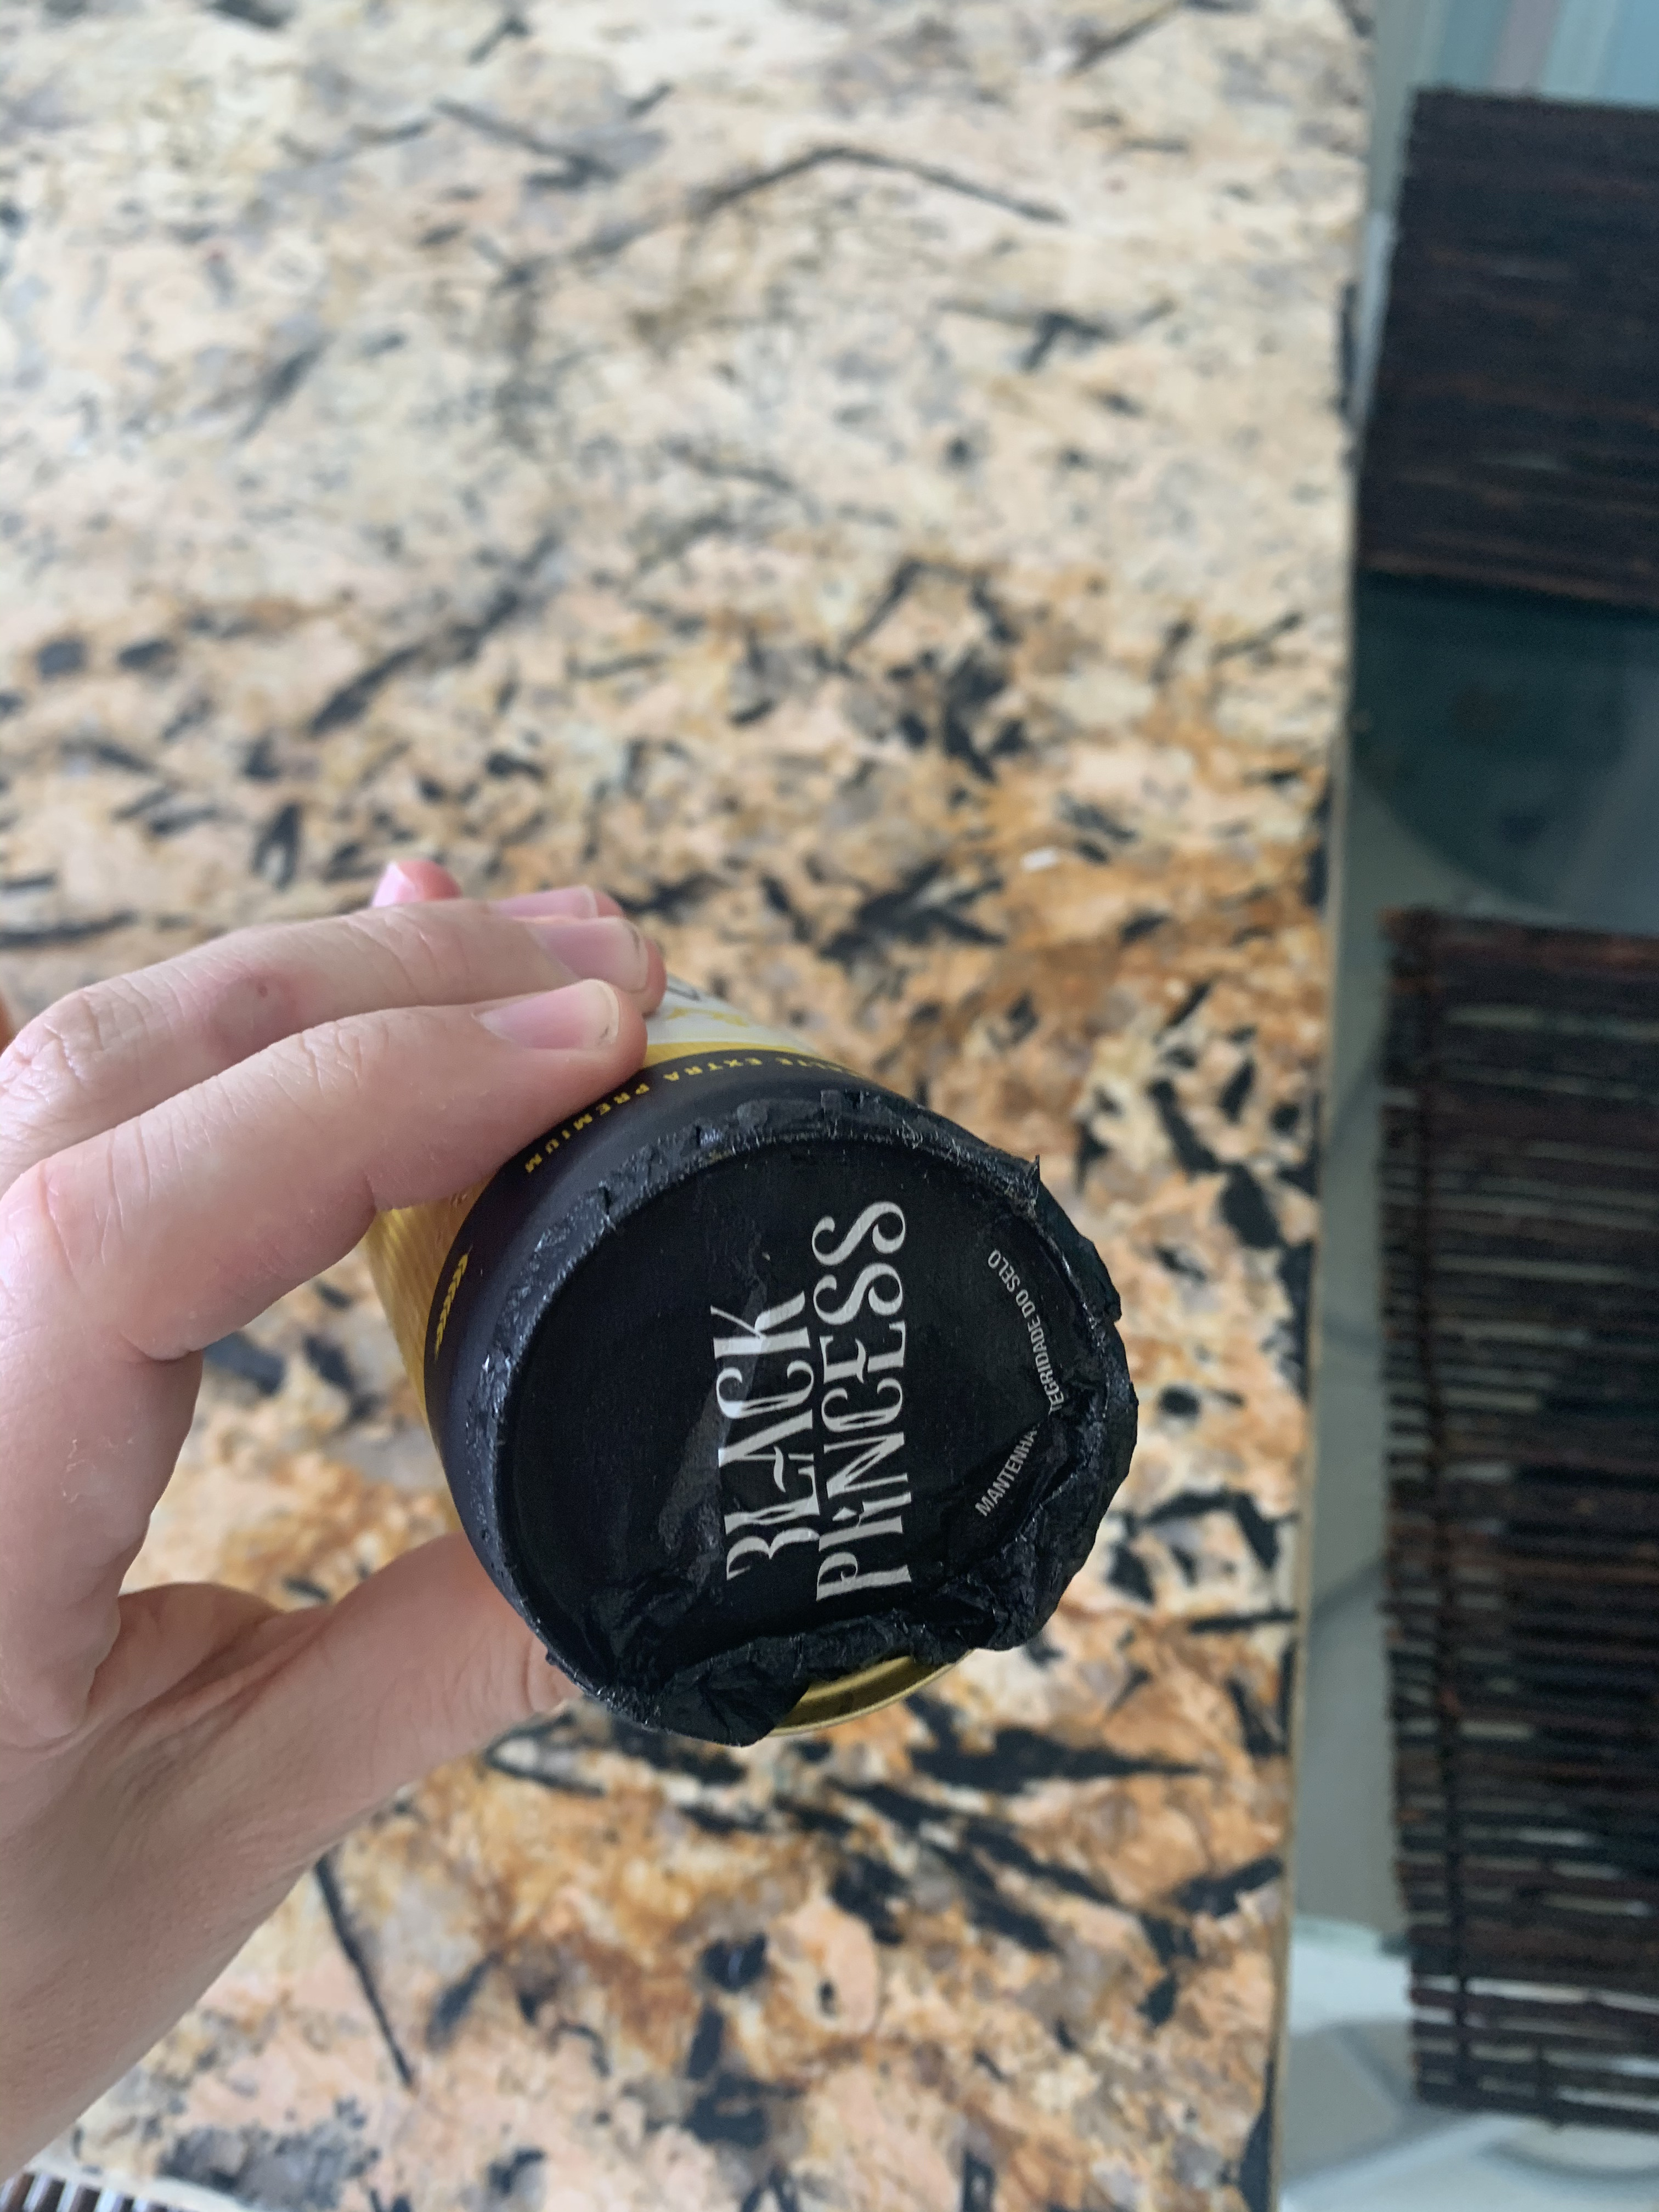blackprincess: (230, 777, 1166, 1864)
